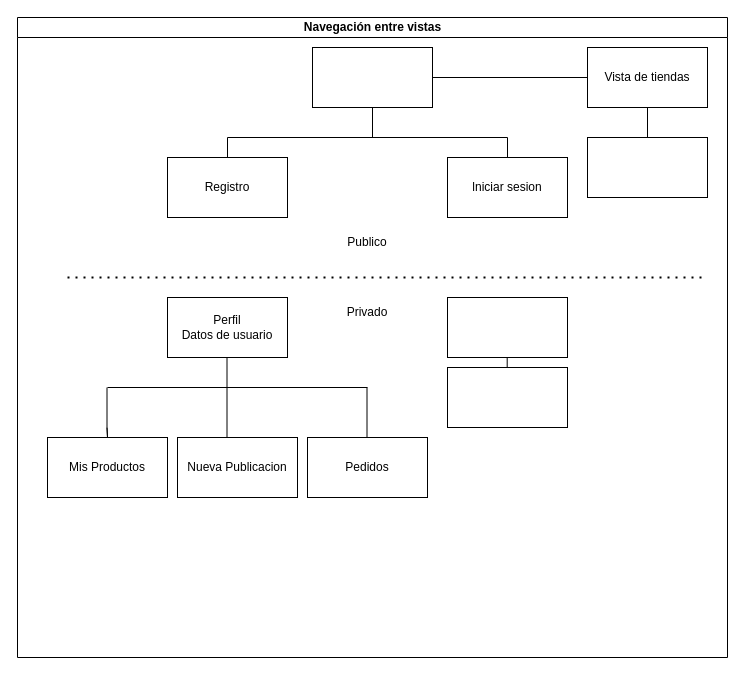
The diagram is 745 pixels wide and 675 high, and some of its shapes have lost their labels. Each missing label, with the centre of its shape:
"Carrito de compras" belongs at point (507, 327).
"Detalle de producto" belongs at point (647, 167).
"Pagina Principal" belongs at point (372, 77).
"Realizar compra" belongs at point (507, 397).
